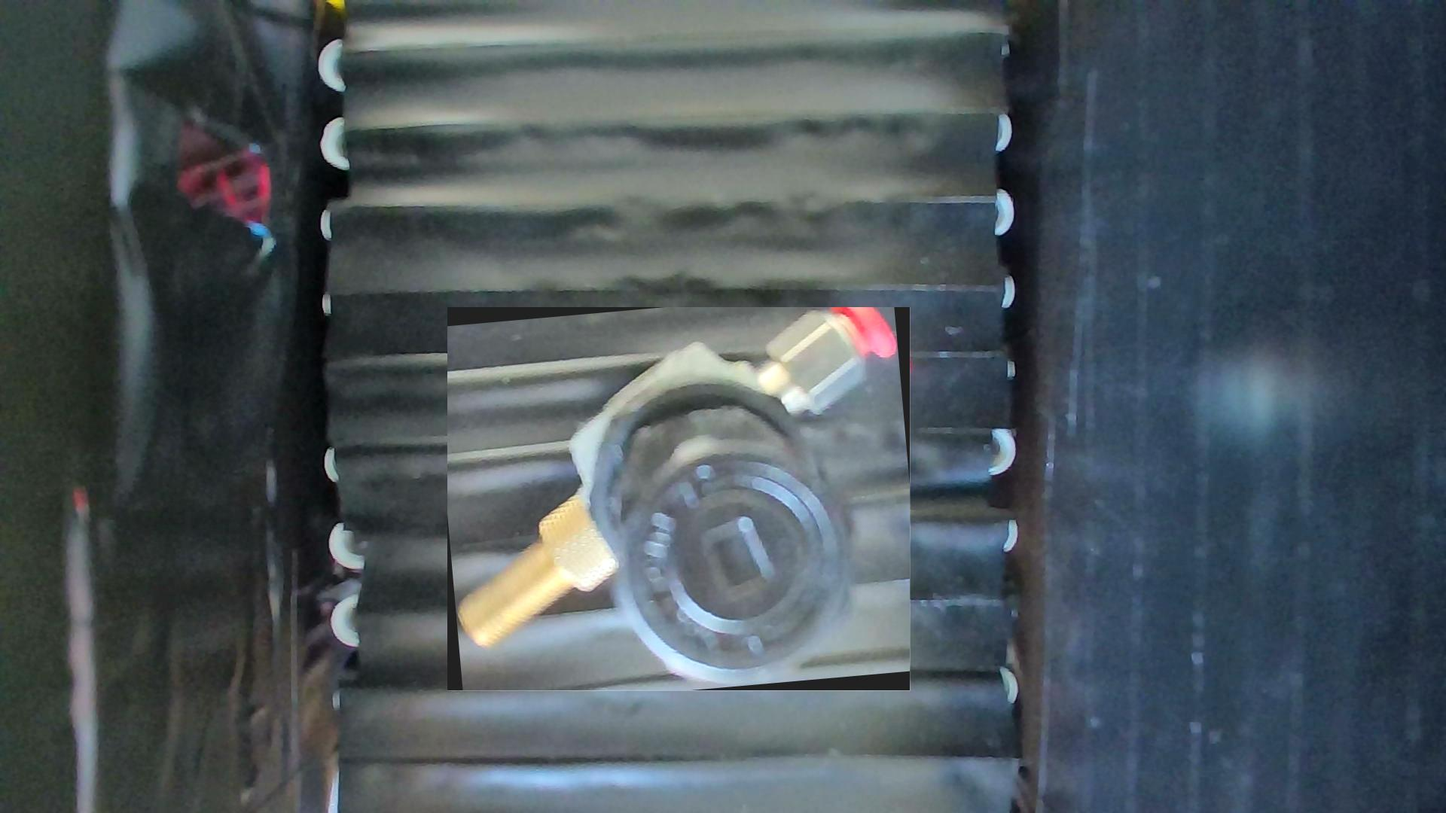regulator: (448, 308, 911, 692)
